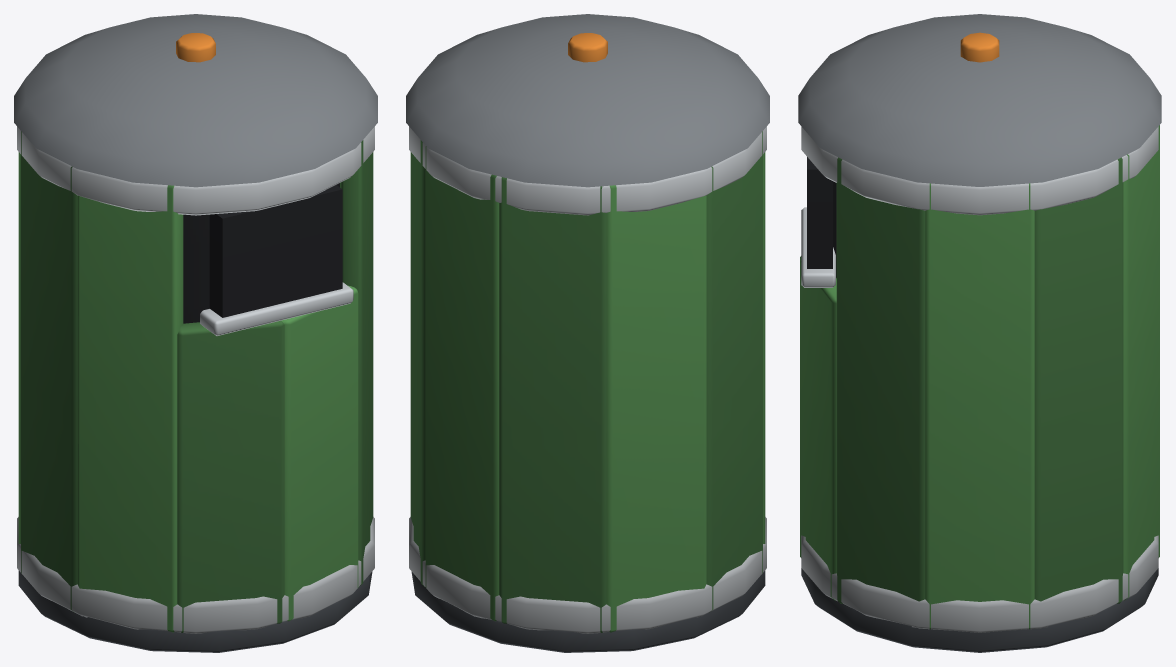
File: TrashCan_Outdoor_01.glb
The picture shows the model from 3 angles, left to right: view 1: azimuth 30°, elevation 25°; view 2: azimuth 150°, elevation 25°; view 3: azimuth 270°, elevation 25°; orthographic projection.
Parts seen in each view (by area): view 1: SM_TrashCan_Outdoor_01; view 2: SM_TrashCan_Outdoor_01; view 3: SM_TrashCan_Outdoor_01.
Part boxes in pixels (x1=…): SM_TrashCan_Outdoor_01: x1=14, y1=14, x2=377, y2=652; SM_TrashCan_Outdoor_01: x1=406, y1=14, x2=769, y2=652; SM_TrashCan_Outdoor_01: x1=798, y1=14, x2=1161, y2=652.
Size of the model in its own units: 0.64 by 1.03 by 0.6303.
1 material, 1 textured.
